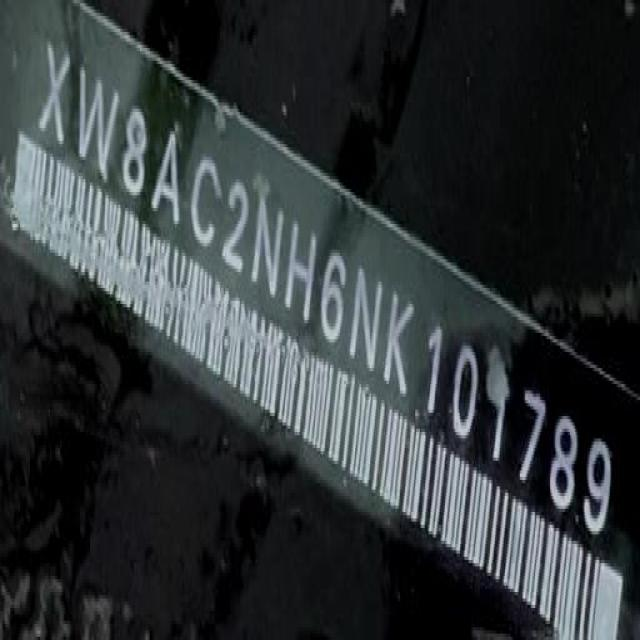0: (451, 338, 477, 444)
1: (415, 307, 449, 442), (481, 347, 513, 474)
2: (216, 164, 252, 290)
6: (321, 242, 346, 350)
7: (518, 384, 547, 486)
8: (543, 404, 586, 528), (123, 104, 147, 198)
9: (577, 426, 626, 552)
A: (147, 104, 189, 241)
C: (183, 132, 226, 258)
H: (279, 198, 322, 334)
K: (382, 288, 416, 398)
N: (344, 246, 390, 385), (245, 174, 288, 316)
W: (78, 62, 119, 170)
X: (28, 28, 78, 160)
